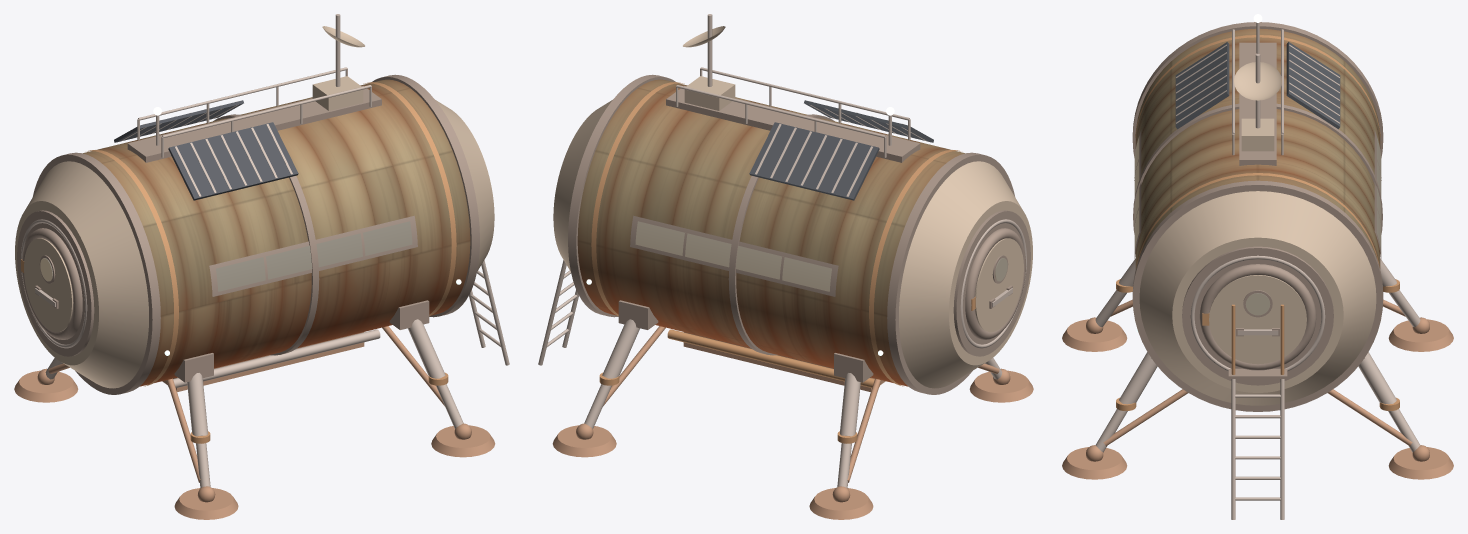
Rendered from W01_dust3_heavy.glb.
The picture shows the model from 3 angles, left to right: view 1: azimuth 30°, elevation 25°; view 2: azimuth 150°, elevation 25°; view 3: azimuth 270°, elevation 25°; orthographic projection.
Visible parts, largest first — view 1: hull, endcone (×2), radiator_panel (×2), joint_ring (×2), window_strip, footpad (×3), roof_spine, hatch_door, end_ring, accent_stripe (×2), window_frame, leg_upper (×2) (+10 smaller); view 2: hull, endcone (×2), radiator_panel (×2), joint_ring (×2), window_strip, footpad (×3), roof_spine, hatch_door, end_ring, accent_stripe (×2), window_frame, leg_upper (×2) (+10 smaller); view 3: endcone, hull, joint_ring (×2), footpad (×4), hatch_door, radiator_panel (×2), end_ring, access_ladder, hatch_frame, roof_spine, leg_piston (×4), leg_upper (×2) (+9 smaller).
Boxes of the visible parts, box(x1,y1,x2,y2) form: hull: box(83, 79, 470, 386); endcone (×2): box(15, 100, 494, 388); radiator_panel (×2): box(114, 100, 298, 200); joint_ring (×2): box(33, 74, 479, 394); window_strip: box(216, 221, 412, 291); footpad (×3): box(14, 370, 495, 519); roof_spine: box(127, 86, 381, 162); hatch_door: box(24, 238, 73, 332); end_ring: box(17, 210, 94, 356); accent_stripe (×2): box(87, 82, 456, 386); window_frame: box(209, 215, 417, 296); leg_upper (×2): box(187, 319, 445, 436); hull: box(577, 79, 964, 386); endcone (×2): box(553, 100, 1032, 388); radiator_panel (×2): box(749, 100, 933, 200); joint_ring (×2): box(568, 74, 1014, 394); window_strip: box(635, 221, 831, 291); footpad (×3): box(552, 370, 1033, 519); roof_spine: box(666, 86, 920, 162); hatch_door: box(975, 238, 1023, 332); end_ring: box(953, 210, 1030, 356); accent_stripe (×2): box(591, 82, 960, 386); window_frame: box(630, 215, 838, 296); leg_upper (×2): box(602, 319, 860, 436); endcone: box(1139, 191, 1376, 405); hull: box(1135, 28, 1380, 268); joint_ring (×2): box(1132, 22, 1383, 411); footpad (×4): box(1062, 319, 1453, 479); hatch_door: box(1209, 275, 1306, 364); radiator_panel (×2): box(1175, 42, 1340, 129); end_ring: box(1182, 246, 1333, 385); access_ladder: box(1231, 304, 1284, 519); hatch_frame: box(1199, 264, 1316, 370); roof_spine: box(1239, 42, 1276, 165); leg_piston (×4): box(1095, 290, 1420, 452); leg_upper (×2): box(1119, 352, 1396, 404).
Bounding box in the file's own units: 6.52 × 5.25 × 4.8.
Materials: 11 (1 with a texture image).
